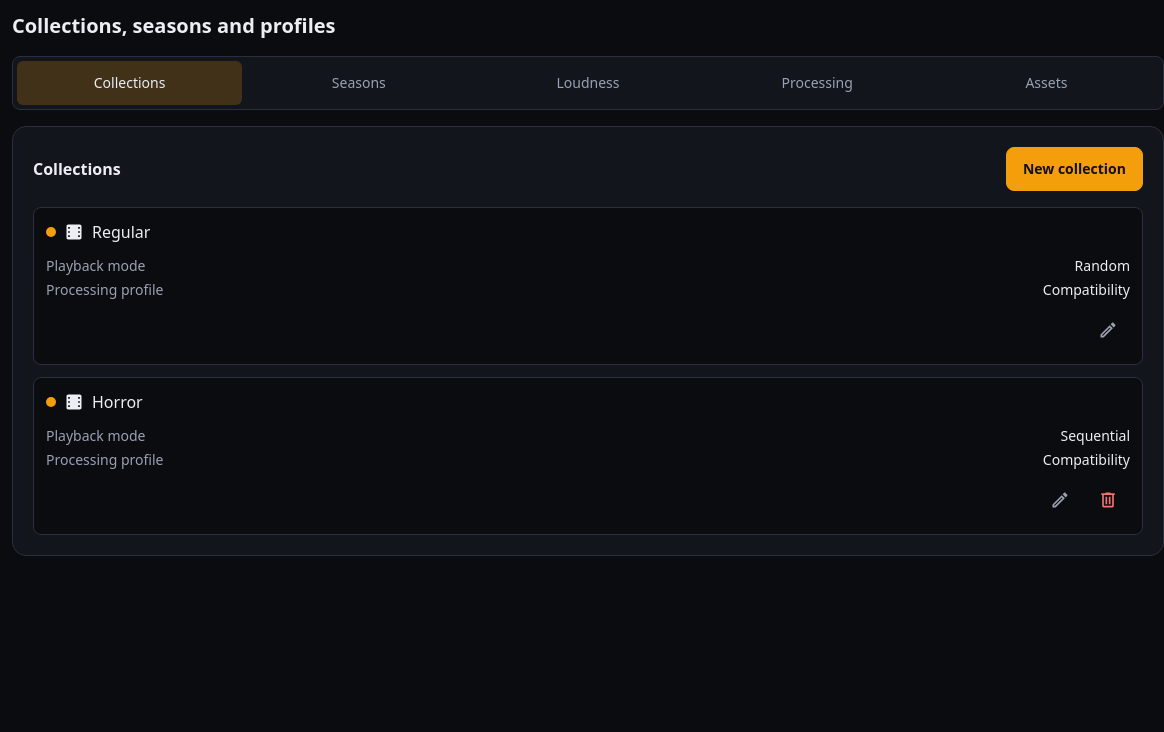
explains a 409 on collection deletion instead of showing the raw server text
The width and height of the screenshot is (1164, 732).
Click the button named "Delete Horror".
click(1108, 500)  # box x1=1086 y1=478 x2=1130 y2=522
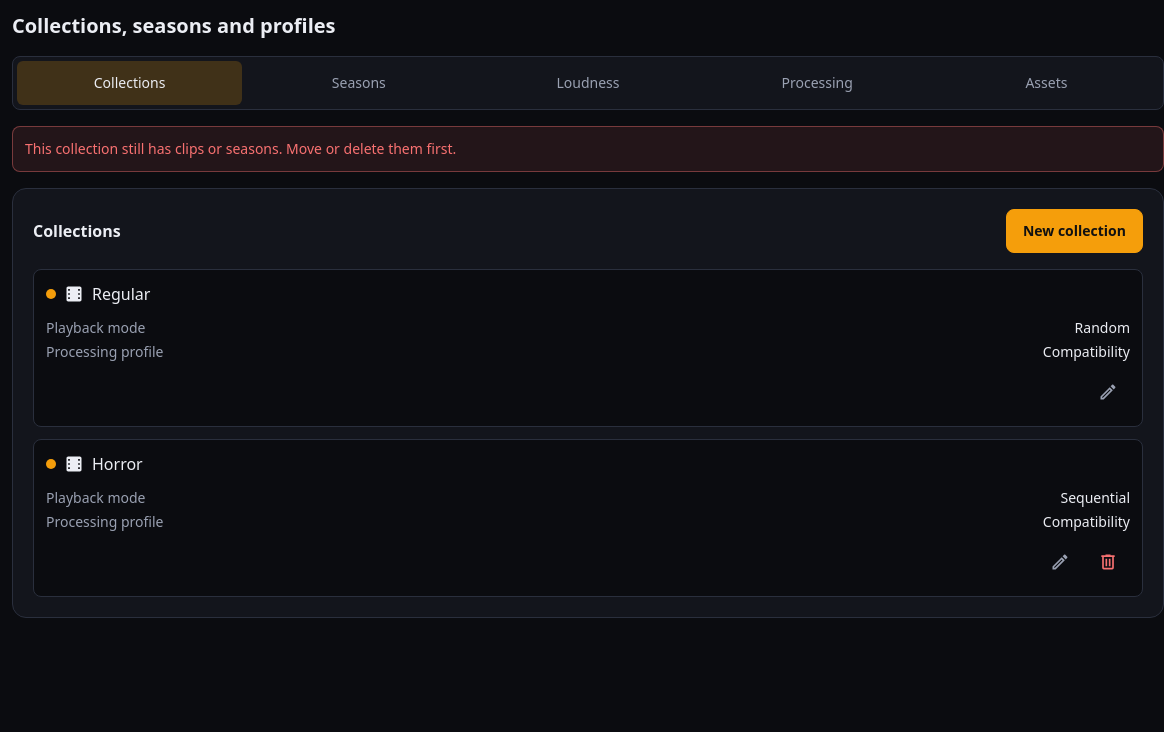
Check: the text with test id "organize-error" reads "This collection still has clips or seasons. Move or delete them first.", box x1=25 y1=139 x2=456 y2=158
